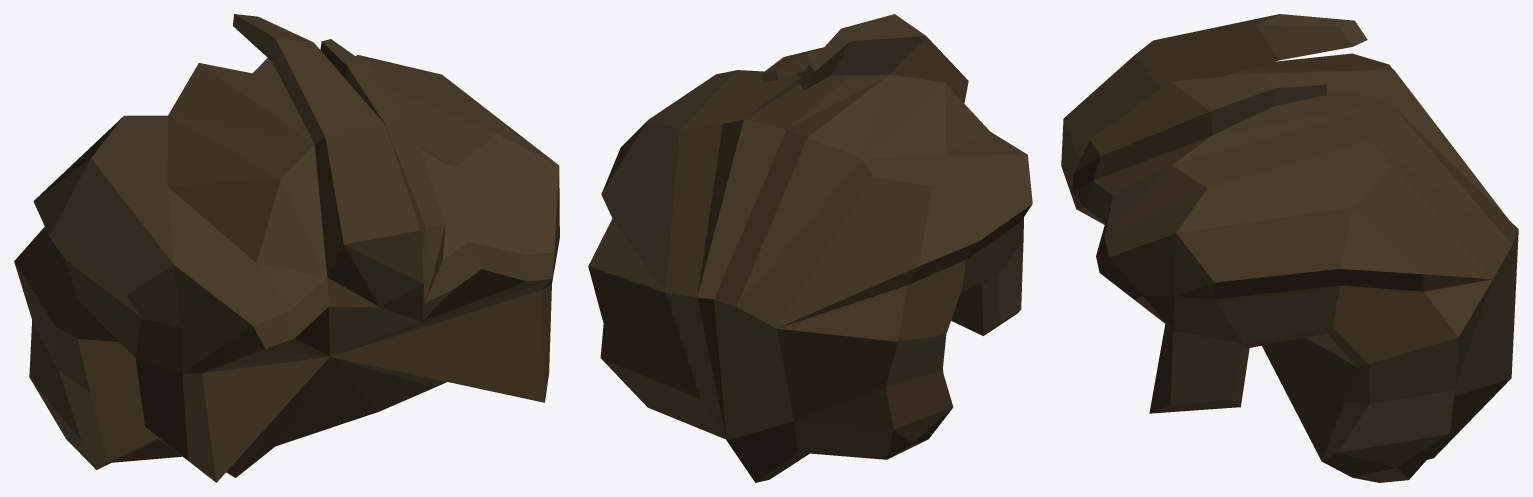
Rendered from Chr_Hair_37_Static.fbx.
3 renders of one model, left to right at view 1: azimuth 30°, elevation 25°; view 2: azimuth 150°, elevation 25°; view 3: azimuth 270°, elevation 25°, orthographic. The views are drawn at different scales.
Visible parts, largest first — view 1: Chr_Hair_37_Static; view 2: Chr_Hair_37_Static; view 3: Chr_Hair_37_Static.
Part boxes in pixels (bbox=[...]): Chr_Hair_37_Static: bbox=[14, 14, 559, 482]; Chr_Hair_37_Static: bbox=[588, 14, 1032, 482]; Chr_Hair_37_Static: bbox=[1061, 14, 1518, 482].
Size of the model in its own units: 0.273 by 0.294 by 0.2776.
